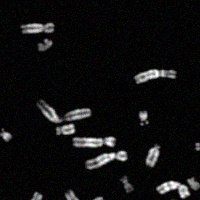chromosome: (37, 99, 90, 123), (86, 150, 127, 169), (135, 69, 176, 84), (156, 181, 190, 199), (72, 136, 115, 147), (20, 22, 54, 33), (146, 143, 160, 166), (55, 122, 74, 135), (120, 175, 133, 192), (19, 192, 43, 200), (65, 189, 82, 200), (187, 177, 200, 190), (38, 39, 52, 51), (0, 128, 12, 142), (139, 110, 149, 125), (85, 196, 111, 200), (196, 140, 200, 152)
